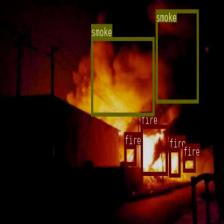fire: (140, 124, 168, 175), (169, 148, 180, 176), (124, 145, 136, 165), (183, 156, 195, 172)
smoke: (91, 36, 154, 116), (155, 9, 198, 102)
